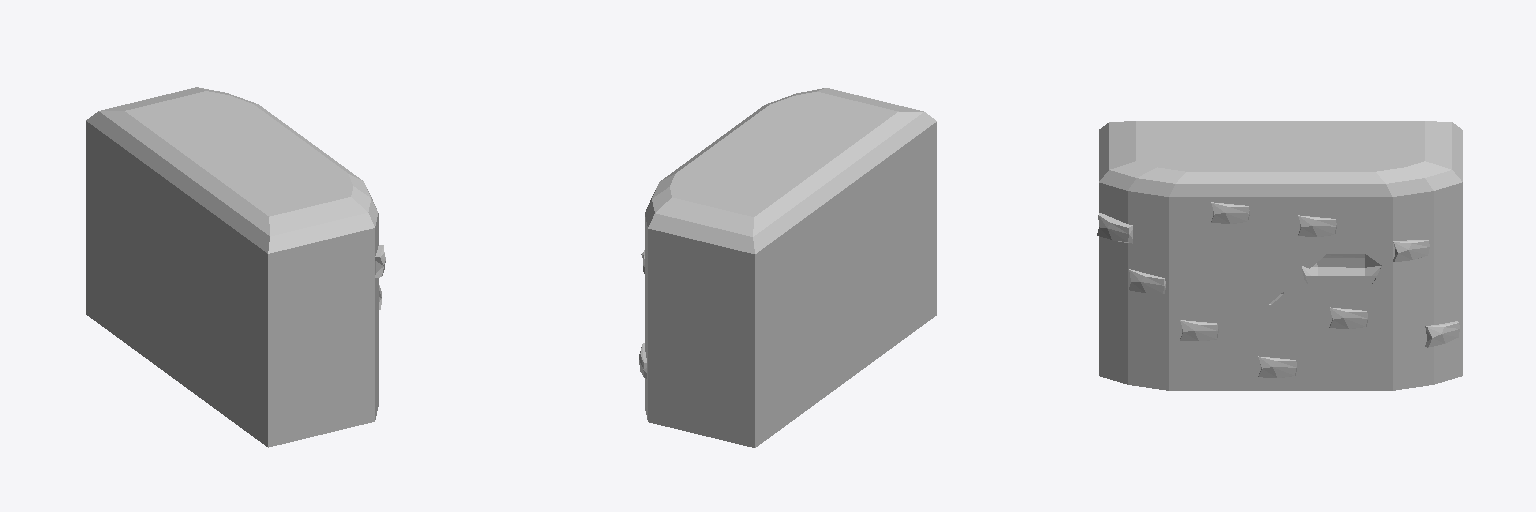
Rendered from Oven.obj.
3 views of the same model, side by side, from view 1: azimuth 30°, elevation 25°; view 2: azimuth 150°, elevation 25°; view 3: azimuth 270°, elevation 25° (orthographic).
Parts seen in each view (by area): view 1: Plane.001; view 2: Plane.001; view 3: Plane.001.
Boxes of the visible parts, x1=… form: Plane.001: x1=86, y1=87, x2=385, y2=447; Plane.001: x1=639, y1=88, x2=936, y2=447; Plane.001: x1=1097, y1=121, x2=1462, y2=390.
Size of the model in its own units: 2.49 by 3.21 by 5.02.